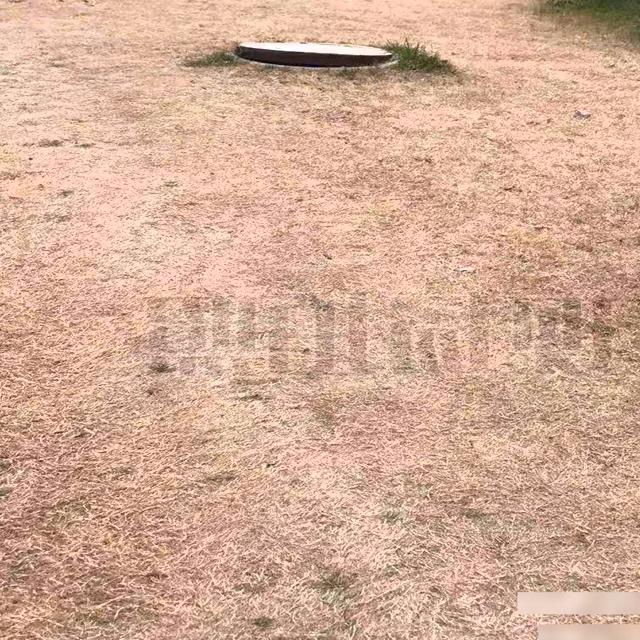uncovered: (220, 27, 405, 78)
